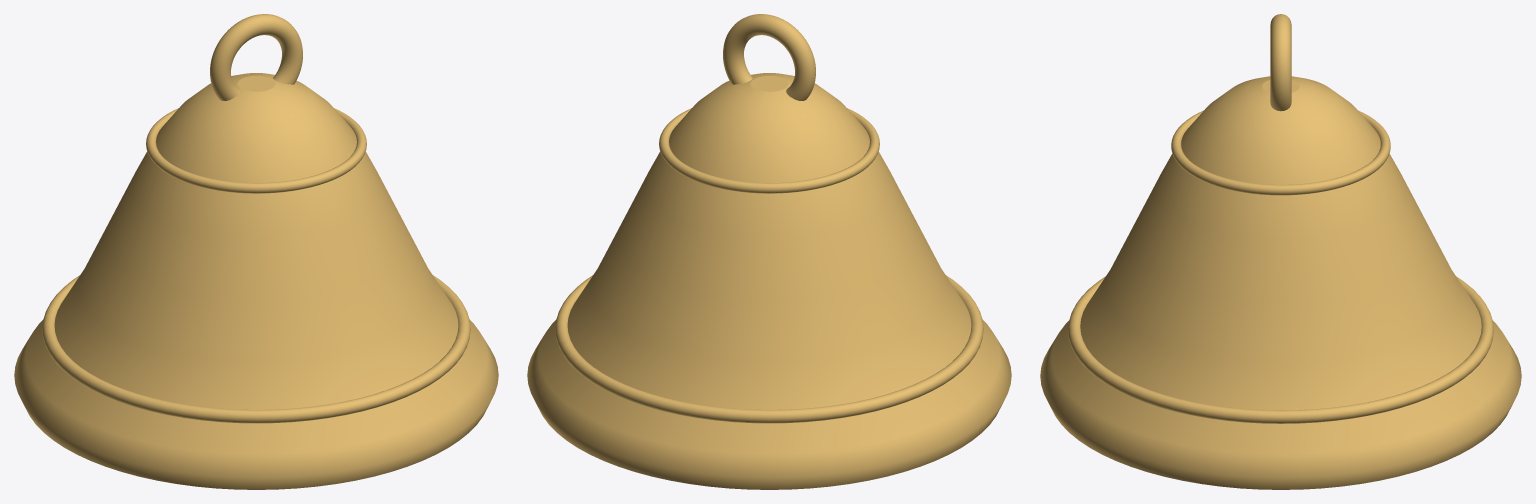
File: campana.glb
3 renders of one model, left to right at view 1: azimuth 30°, elevation 25°; view 2: azimuth 150°, elevation 25°; view 3: azimuth 270°, elevation 25°, orthographic.
Visible parts, largest first — view 1: Campana de Dolores; view 2: Campana de Dolores; view 3: Campana de Dolores.
Part boxes in pixels (x1,y1,x2,y2): Campana de Dolores: (14, 14, 498, 489); Campana de Dolores: (527, 14, 1011, 489); Campana de Dolores: (1040, 14, 1521, 489).
Size of the model in its own units: 1.28 by 1.09 by 1.28.
